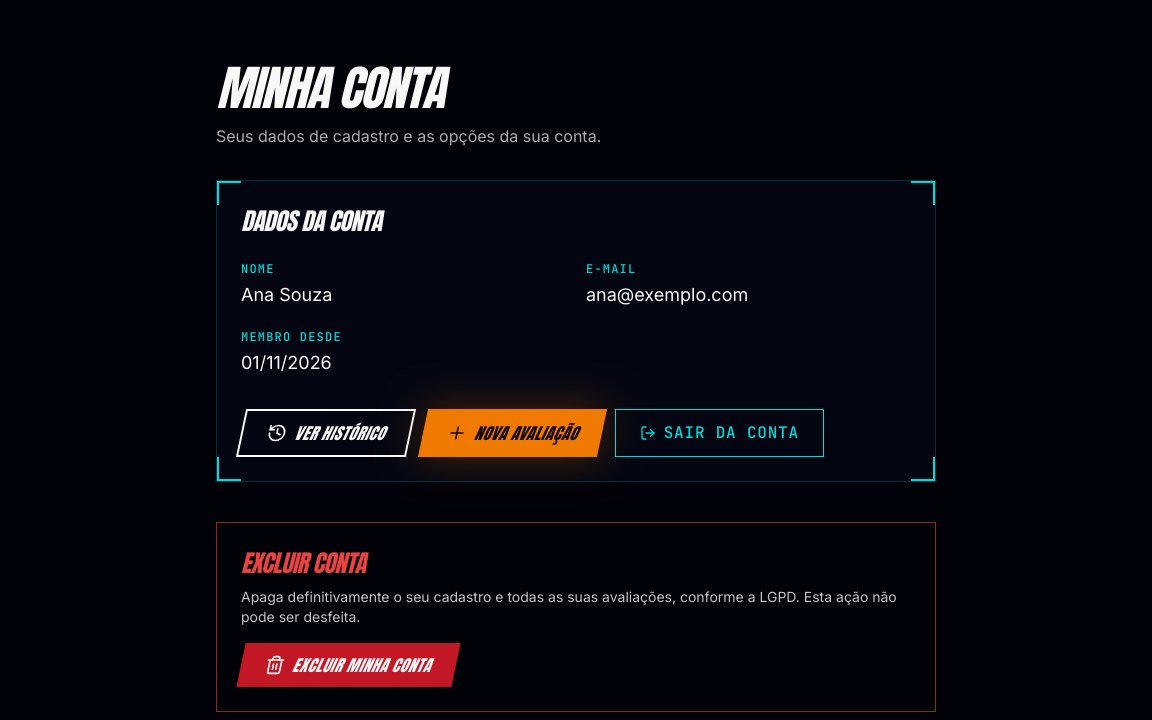
Scenario: ContaPage › cancelar fecha o diálogo sem excluir
The width and height of the screenshot is (1152, 720).
Expected: the text "ana@exemplo.com" is shown, [586, 284, 748, 305]
What coordinates should you click on to do the following:
click the button "Excluir minha conta"
I would click on:
 (348, 665)
Its box is [236, 643, 460, 687].
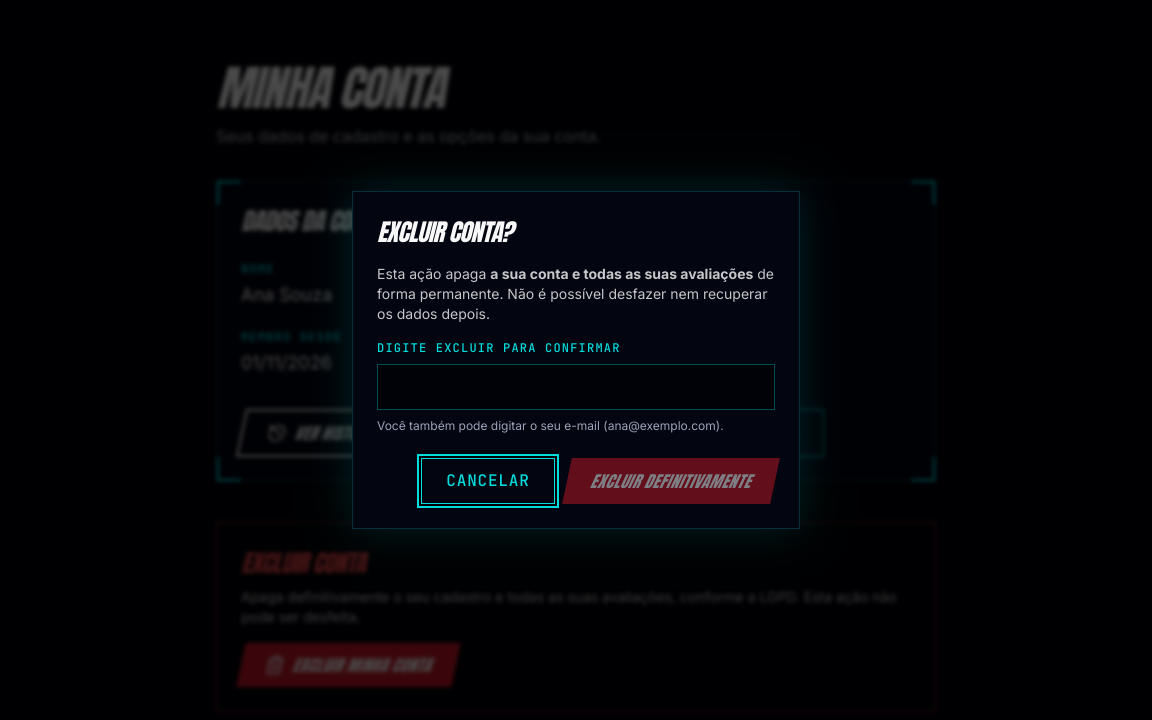
What coordinates should you click on to do the following:
click the button "Cancelar"
I would click on:
 (488, 481)
Its box is [421, 458, 555, 504].
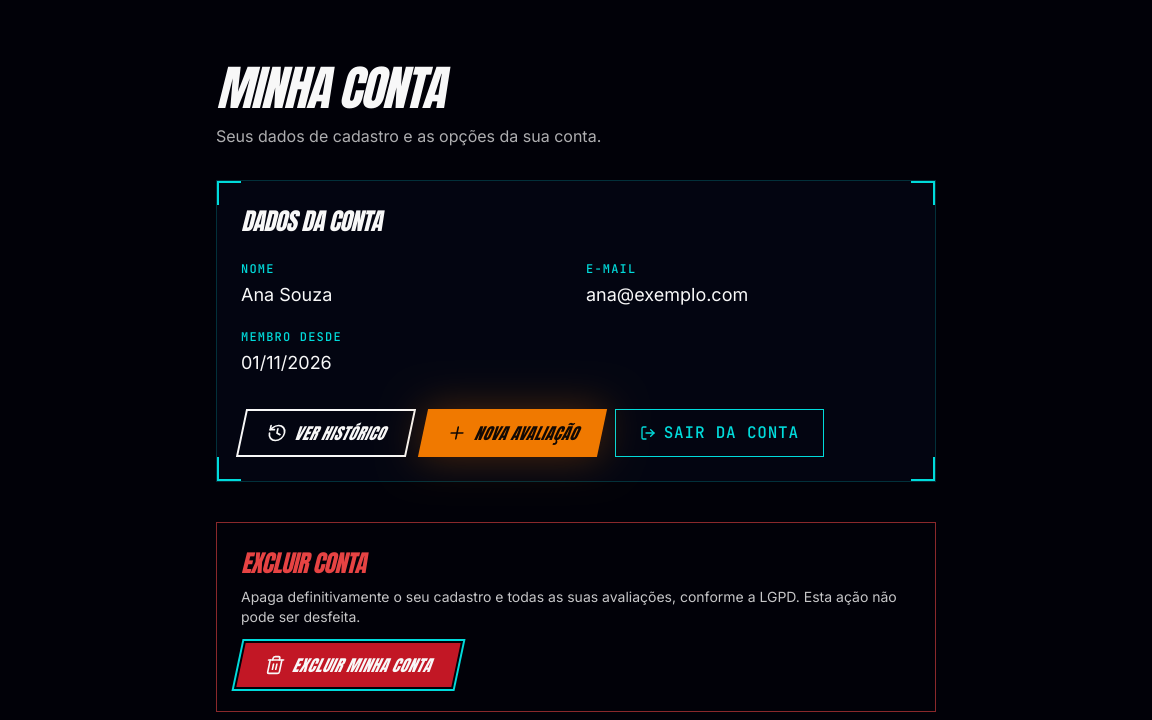
Expected: the dialog is gone
